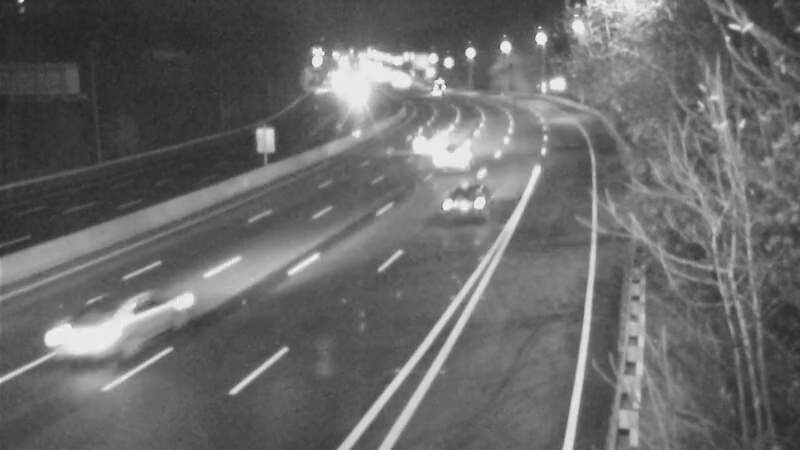vehicle: (33, 277, 143, 387), (406, 113, 486, 193), (434, 155, 514, 235), (406, 116, 456, 166)
